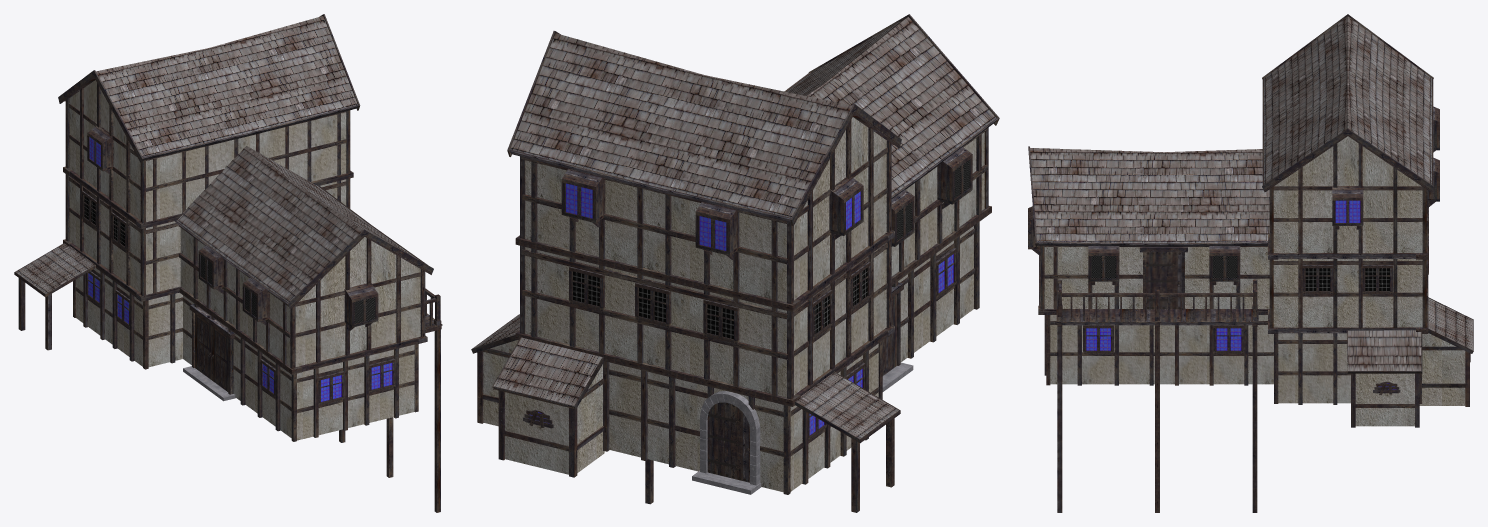
File: thouse08.dae
The picture shows the model from 3 angles, left to right: view 1: azimuth 30°, elevation 25°; view 2: azimuth 150°, elevation 25°; view 3: azimuth 270°, elevation 25°; orthographic projection. The views are drawn at different scales.
Visible parts, largest first — view 1: House2_Roof, House1_Roof, House1_Level2, House2_Level3, House1_Level1, House2_Level3_Beams, House1_Level2_Beams, House2_Level2, House1_Level1_Beams, House2_Level1, House2_Level2_Beams, House2_Level1_Beams (+16 smaller); view 2: House2_Roof, House2_Level3, House2_Level2, House1_Roof, House2_Level1, House2_Level2_Beams, House2_Level3_Beams, House2_Level1_Beams, BuildingExtensions4_001, BuildingExtensions4Roof_001, House1_Level1, Roof2Outer (+31 smaller); view 3: House1_Roof, House2_Roof, House2_Level3, House1_Level1, House1_Level2, House2_Level2, House2_Level1, House2_Level3_Beams, Balcony4Stilts, House2_Level2_Beams, Balcony4, BuildingExtensions4Roof (+29 smaller).
Boxes of the visible parts, x1,y1,x2,y2 form: House2_Roof: [96, 16, 357, 157]; House1_Roof: [176, 146, 419, 302]; House1_Level2: [180, 228, 420, 366]; House2_Level3: [69, 80, 346, 221]; House1_Level1: [183, 295, 414, 440]; House2_Level3_Beams: [65, 83, 350, 223]; House1_Level2_Beams: [179, 225, 425, 368]; House2_Level2: [69, 177, 346, 294]; House1_Level1_Beams: [182, 297, 418, 441]; House2_Level1: [76, 268, 182, 367]; House2_Level2_Beams: [65, 174, 350, 296]; House2_Level1_Beams: [73, 269, 182, 369]; House2_Roof: [510, 33, 852, 217]; House2_Level3: [525, 117, 886, 302]; House2_Level2: [525, 243, 886, 397]; House1_Roof: [786, 17, 995, 195]; House2_Level1: [609, 343, 878, 492]; House2_Level2_Beams: [520, 240, 891, 399]; House2_Level3_Beams: [520, 120, 891, 303]; House2_Level1_Beams: [603, 341, 882, 494]; BuildingExtensions4_001: [505, 364, 604, 474]; BuildingExtensions4Roof_001: [493, 337, 602, 405]; House1_Level1: [898, 226, 973, 361]; Roof2Outer: [796, 372, 898, 438]; House1_Roof: [1030, 148, 1269, 243]; House2_Roof: [1264, 16, 1431, 184]; House2_Level3: [1273, 136, 1422, 252]; House1_Level1: [1050, 315, 1273, 384]; House1_Level2: [1044, 247, 1269, 308]; House2_Level2: [1273, 259, 1422, 327]; House2_Level1: [1278, 333, 1350, 403]; House2_Level3_Beams: [1269, 143, 1427, 253]; Balcony4Stilts: [1057, 326, 1257, 512]; House2_Level2_Beams: [1269, 259, 1427, 327]; Balcony4: [1056, 279, 1258, 322]; BuildingExtensions4Roof: [1348, 330, 1421, 370].
Bounding box in the file's own units: 11.38 × 14.35 × 14.09.
29 materials, 29 textured.
